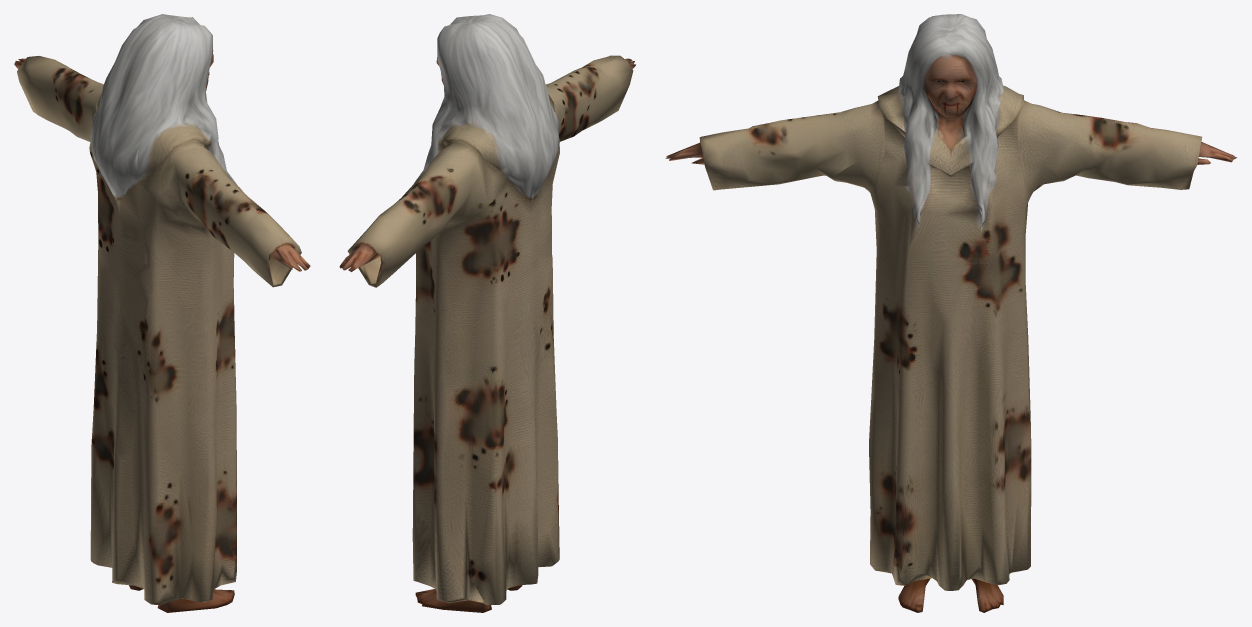
Rendered from bloodiedmother.fbx.
The picture shows the model from 3 angles, left to right: view 1: azimuth 30°, elevation 25°; view 2: azimuth 150°, elevation 25°; view 3: azimuth 270°, elevation 25°; orthographic projection.
Visible parts, largest first — view 1: tripo_node_b738511e; view 2: tripo_node_b738511e; view 3: tripo_node_b738511e.
Part boxes in pixels (x1,y1,x2,y2): tripo_node_b738511e: (14, 14, 310, 612); tripo_node_b738511e: (339, 14, 635, 612); tripo_node_b738511e: (665, 14, 1236, 612).
Size of the model in its own units: 0.2304 by 1 by 0.9075.
Materials: 1 (1 with a texture image).
